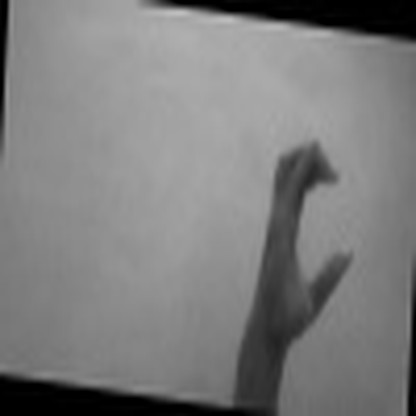c: (254, 127, 357, 334)
